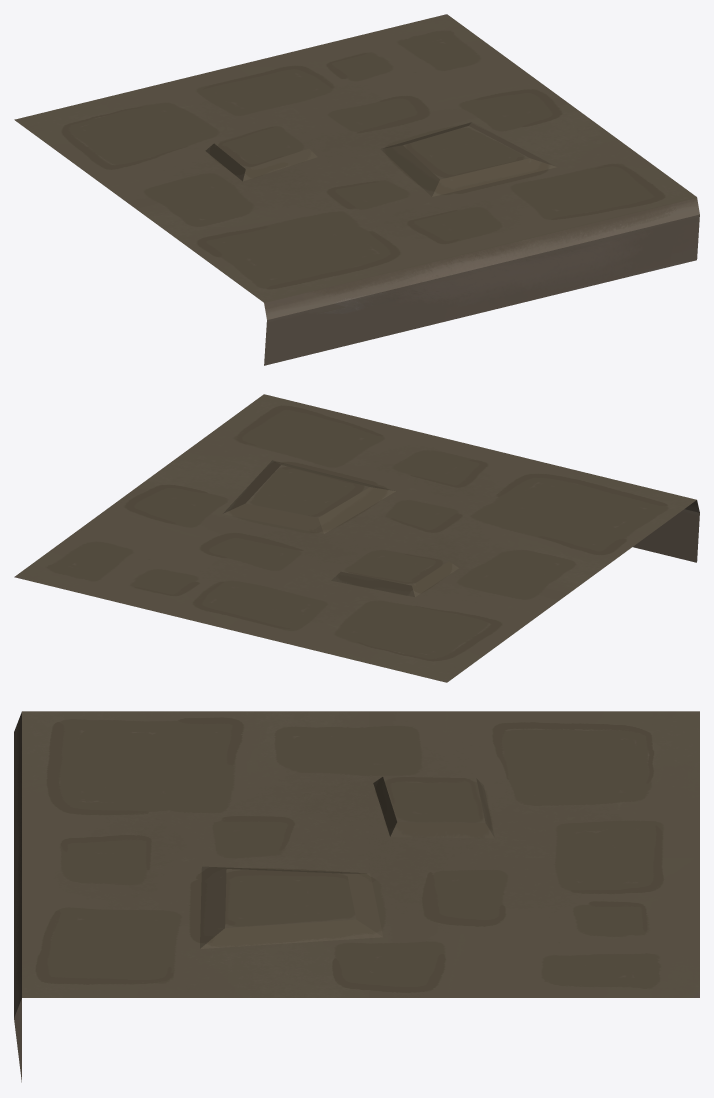
Rendered from SidewalkStraight1.fbx.
The picture shows the model from 3 angles, top to bottom: view 1: azimuth 30°, elevation 25°; view 2: azimuth 150°, elevation 25°; view 3: azimuth 270°, elevation 25°; orthographic projection. The views are drawn at different scales.
Visible parts, largest first — view 1: Plane.020; view 2: Plane.020; view 3: Plane.020.
Boxes of the visible parts, x1,y1,x2,y2 form: Plane.020: (14, 14, 699, 365); Plane.020: (14, 394, 699, 682); Plane.020: (14, 711, 699, 1082).
Bounding box in the file's own units: 1077 × 169 × 1090.
